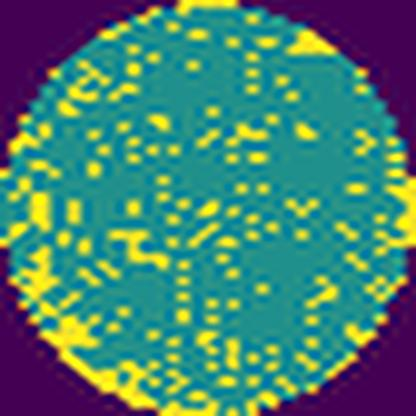Edge-Loc: (36, 309, 155, 415), (5, 240, 58, 311), (371, 169, 415, 253), (286, 22, 338, 63)
